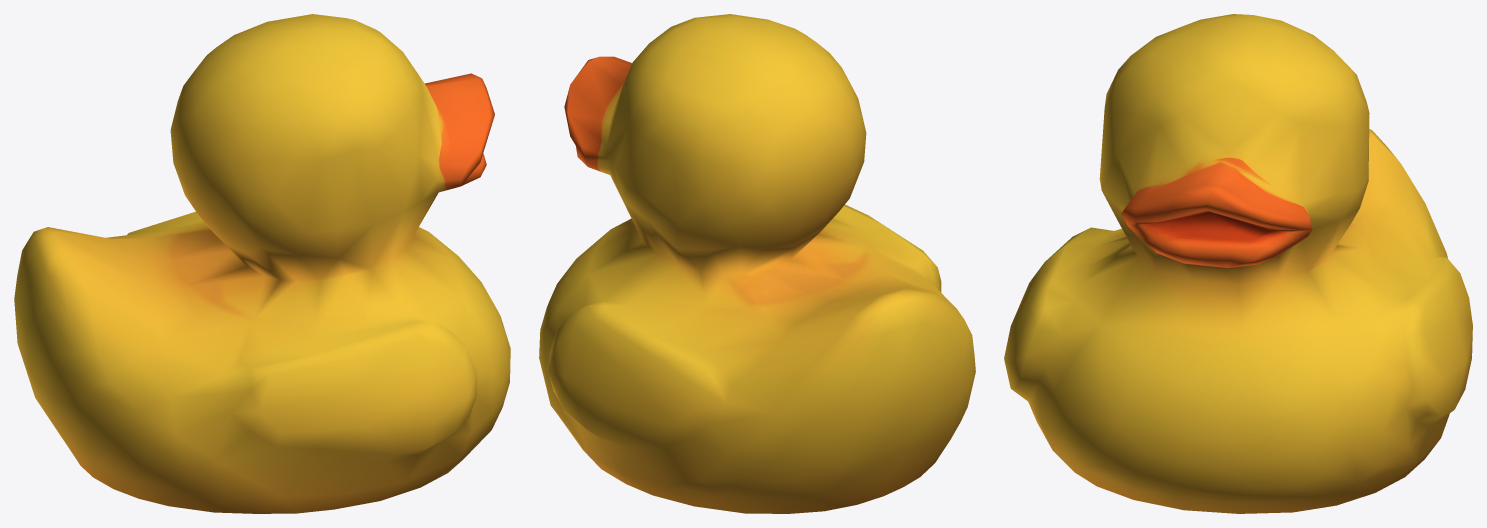
Rendered from charm_pato.glb.
The picture shows the model from 3 angles, left to right: view 1: azimuth 30°, elevation 25°; view 2: azimuth 150°, elevation 25°; view 3: azimuth 270°, elevation 25°; orthographic projection. The views are drawn at different scales.
Parts seen in each view (by area): view 1: tripo_node_603f2a63-14e7-401f-989e-178e8bba7381; view 2: tripo_node_603f2a63-14e7-401f-989e-178e8bba7381; view 3: tripo_node_603f2a63-14e7-401f-989e-178e8bba7381.
Part boxes in pixels (x1,y1,x2,y2): tripo_node_603f2a63-14e7-401f-989e-178e8bba7381: [14, 14, 510, 513]; tripo_node_603f2a63-14e7-401f-989e-178e8bba7381: [539, 14, 975, 513]; tripo_node_603f2a63-14e7-401f-989e-178e8bba7381: [1004, 14, 1472, 513].
Size of the model in its own units: 0.998 by 0.9395 by 0.9473.
Materials: 1 (1 with a texture image).
